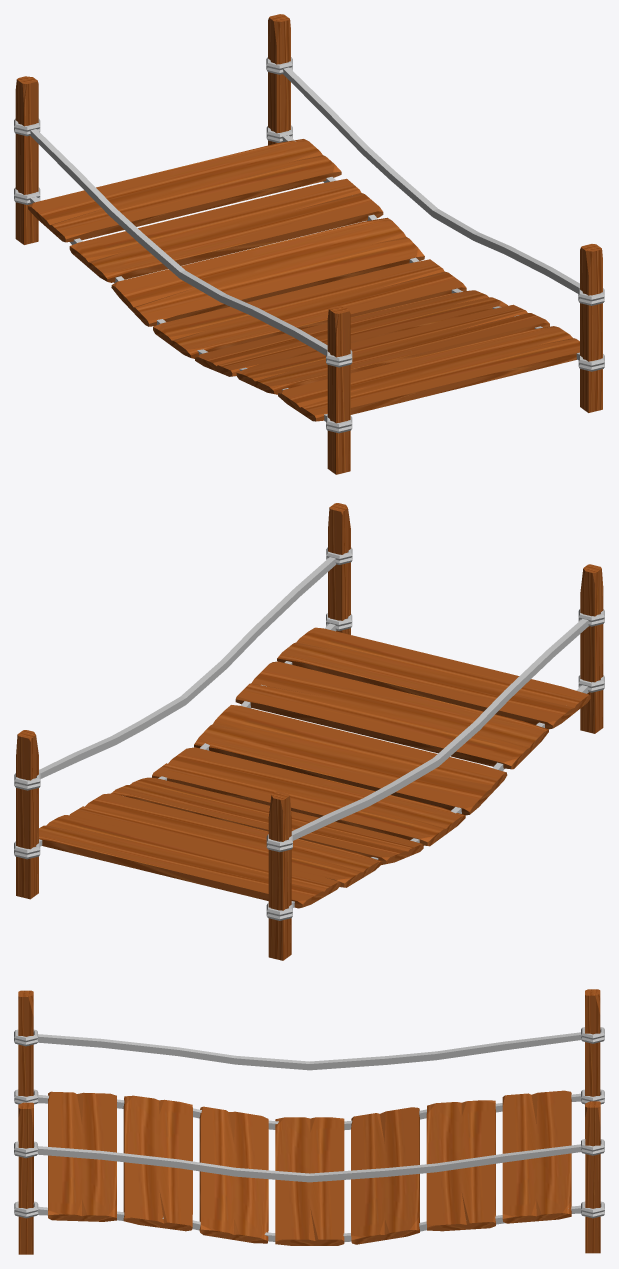
File: Puente.fbx
The picture shows the model from 3 angles, top to bottom: view 1: azimuth 30°, elevation 25°; view 2: azimuth 150°, elevation 25°; view 3: azimuth 270°, elevation 25°; orthographic projection. The views are drawn at different scales.
Parts seen in each view (by area): view 1: Cube.006, Cube.012, Torus.001; view 2: Cube.006, Cube.012, Torus.001; view 3: Cube.006, Torus.001, Cube.012.
Boxes of the visible parts, box(x1,y1,x2,y2) form: Cube.006: box(28, 139, 579, 421); Cube.012: box(15, 14, 602, 474); Torus.001: box(14, 57, 604, 433); Cube.006: box(39, 627, 590, 908); Cube.012: box(16, 503, 603, 960); Torus.001: box(14, 547, 604, 920); Cube.006: box(48, 1090, 571, 1245); Torus.001: box(14, 1027, 604, 1242); Cube.012: box(18, 989, 600, 1254).
Bounding box in the file's own units: 850 × 471 × 1716.
